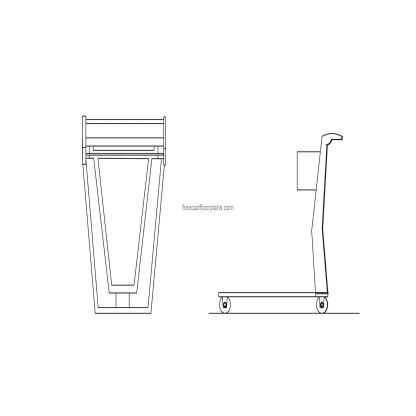airport-trolley: (217, 128, 346, 314), (78, 109, 168, 320)
